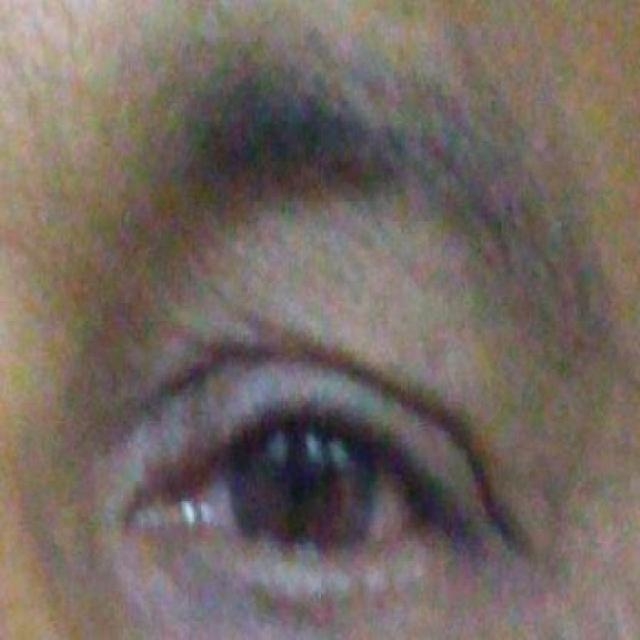awake: (138, 352, 464, 612)
